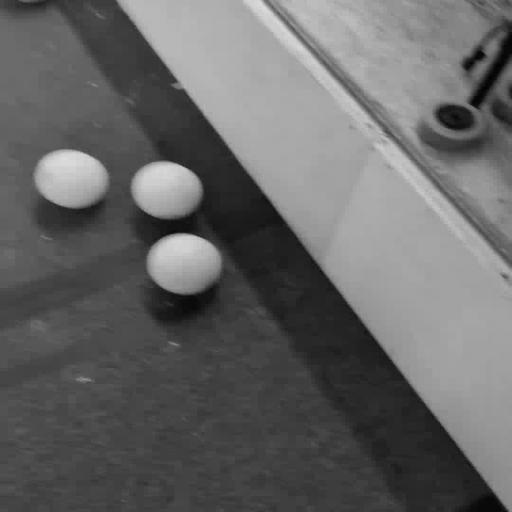fuel: (147, 234, 222, 295), (34, 150, 109, 209), (131, 162, 203, 219)
